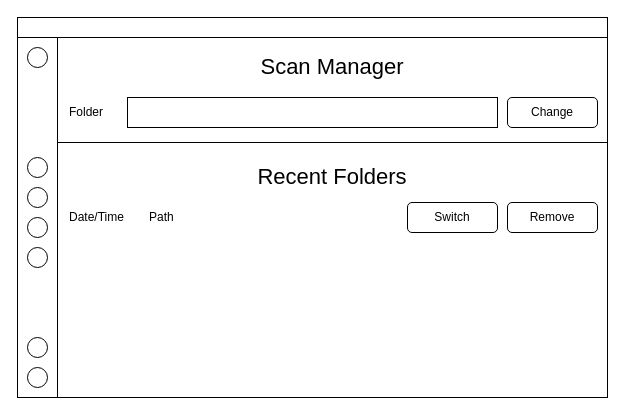
The diagram is 626 pixels wide and 415 high, and some of its shapes have lost their labels. The box of each missing label's shape, as (x1, y1, x2, y2) in pixels:
C:\...\ScanManager\data\...: (126, 96, 498, 128)
Home: (16, 16, 608, 38)
